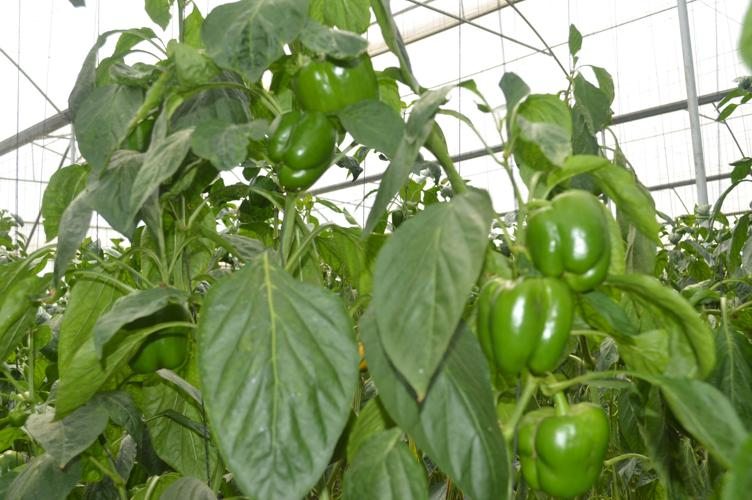BellPepper: (477, 276, 572, 381), (519, 190, 611, 288), (514, 404, 609, 494), (292, 50, 382, 121), (263, 111, 335, 186), (118, 301, 191, 372)
